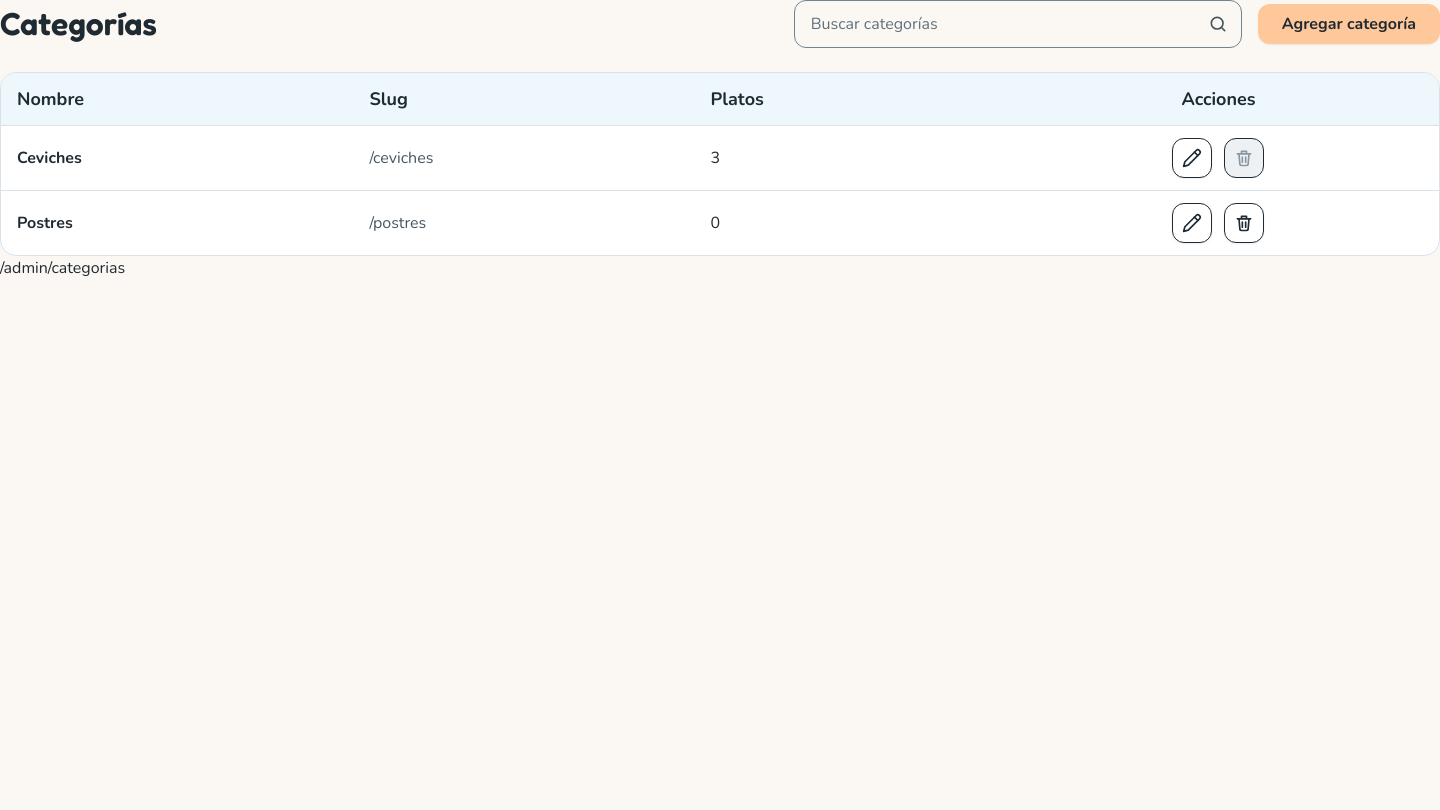
Test: AdminCategoriesPage › al eliminar una categoría vacía la quita de la lista y avisa
What coordinates should you click on to do the following:
click the button named "Eliminar Postres"
I would click on:
 (1244, 223)
Its box is [1224,203,1264,243].
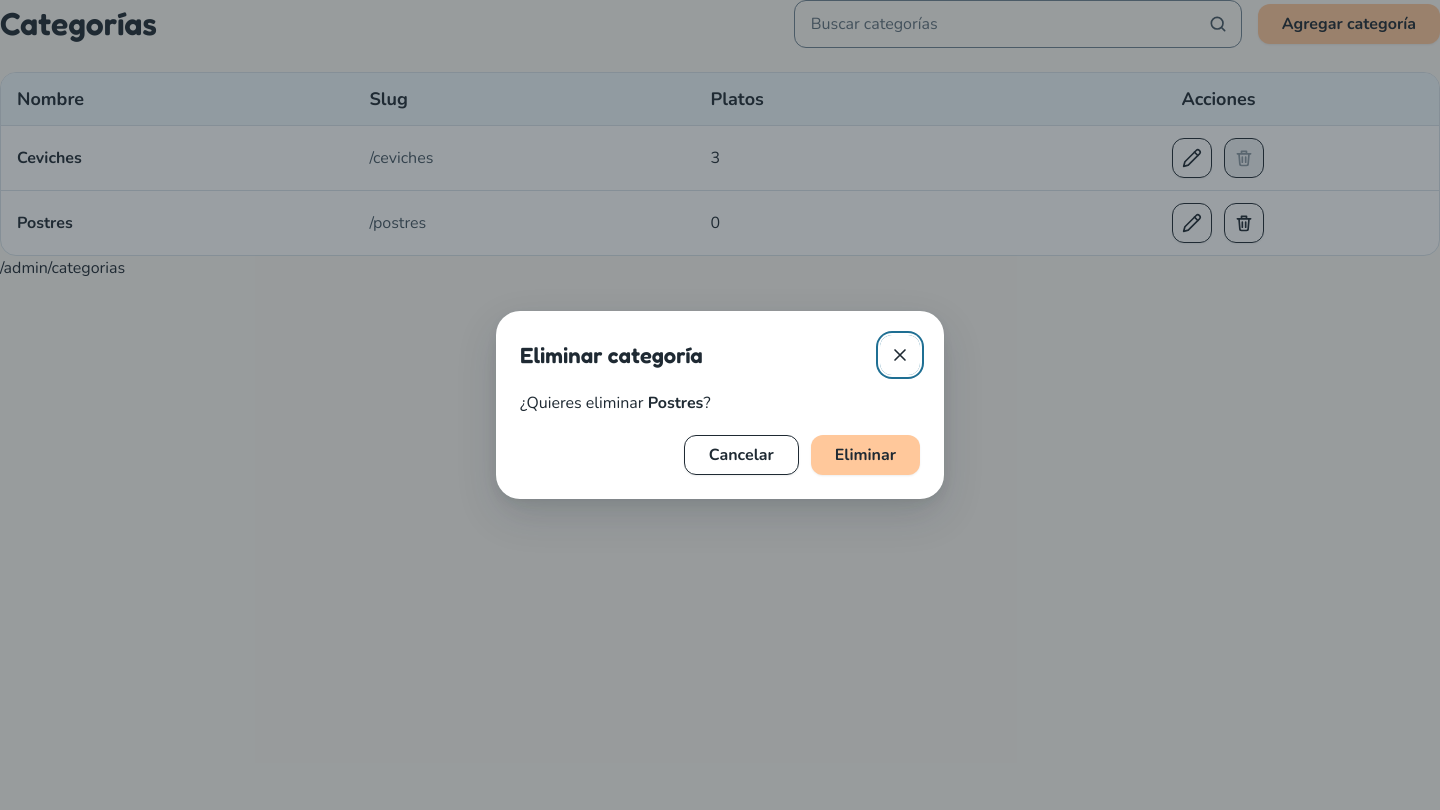
What coordinates should you click on to do the following:
click the button "Eliminar"
I would click on:
 (865, 455)
Its box is [811,435,920,475].
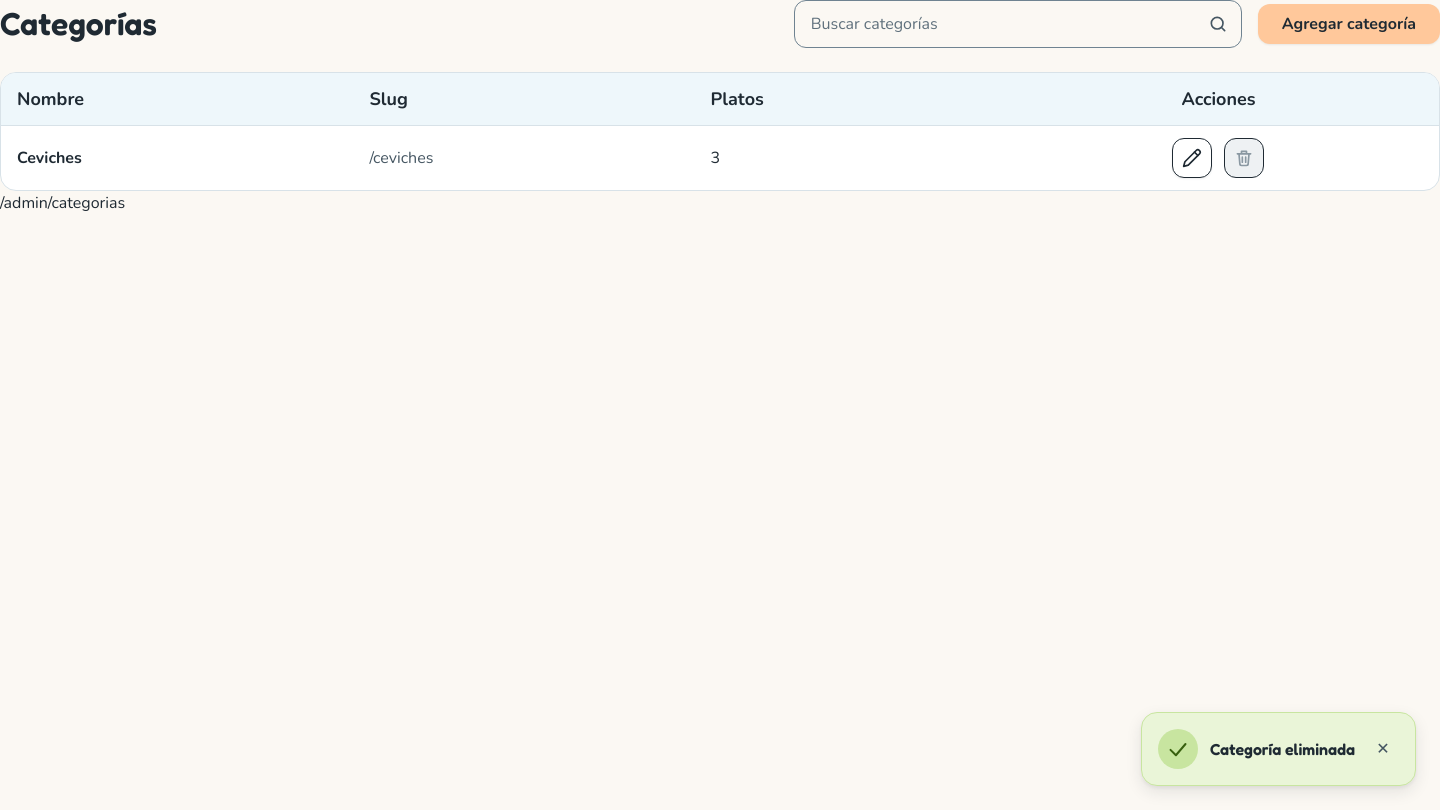
Expected: the text "Categoría eliminada" is shown, [1210,737,1355,761]
Expected: the column heading "Postres" is gone
